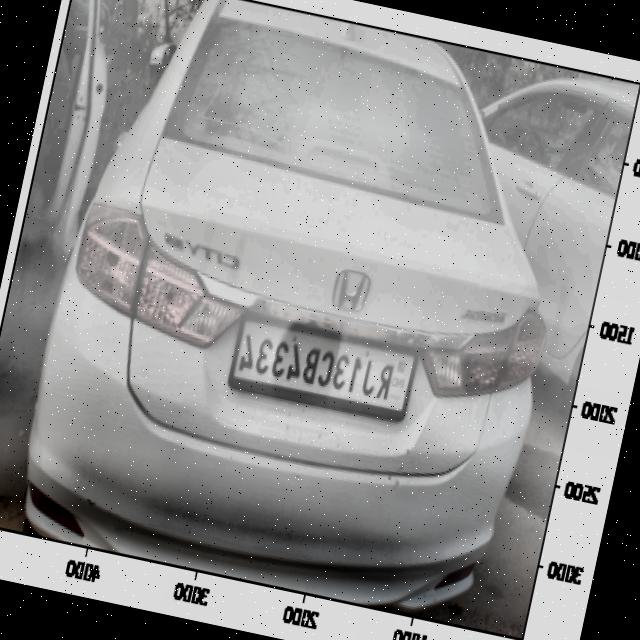license_plate: (228, 322, 403, 418)
